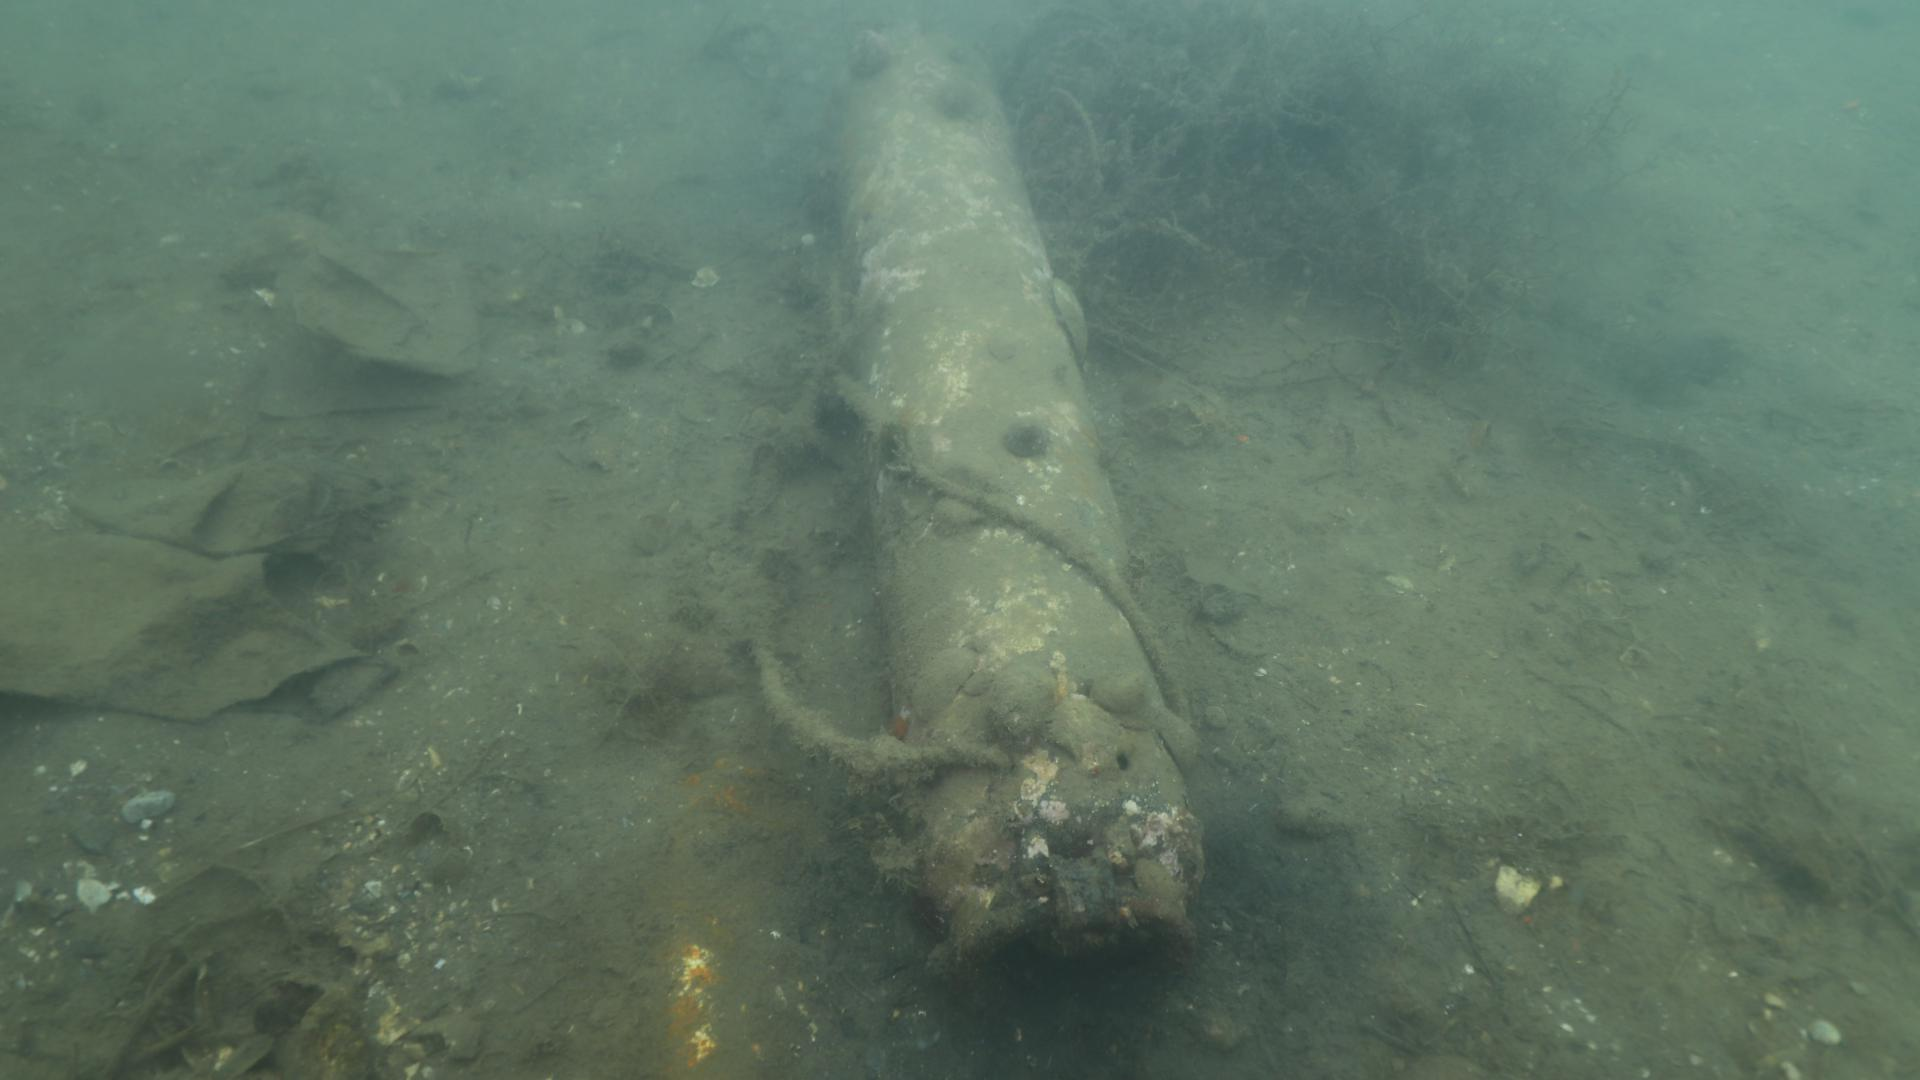eel fish trap: (820, 30, 1211, 978)
rope: (749, 455, 1191, 785)
